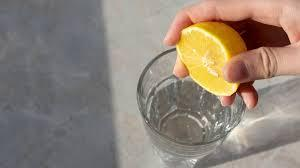lemon: (175, 21, 247, 96)
